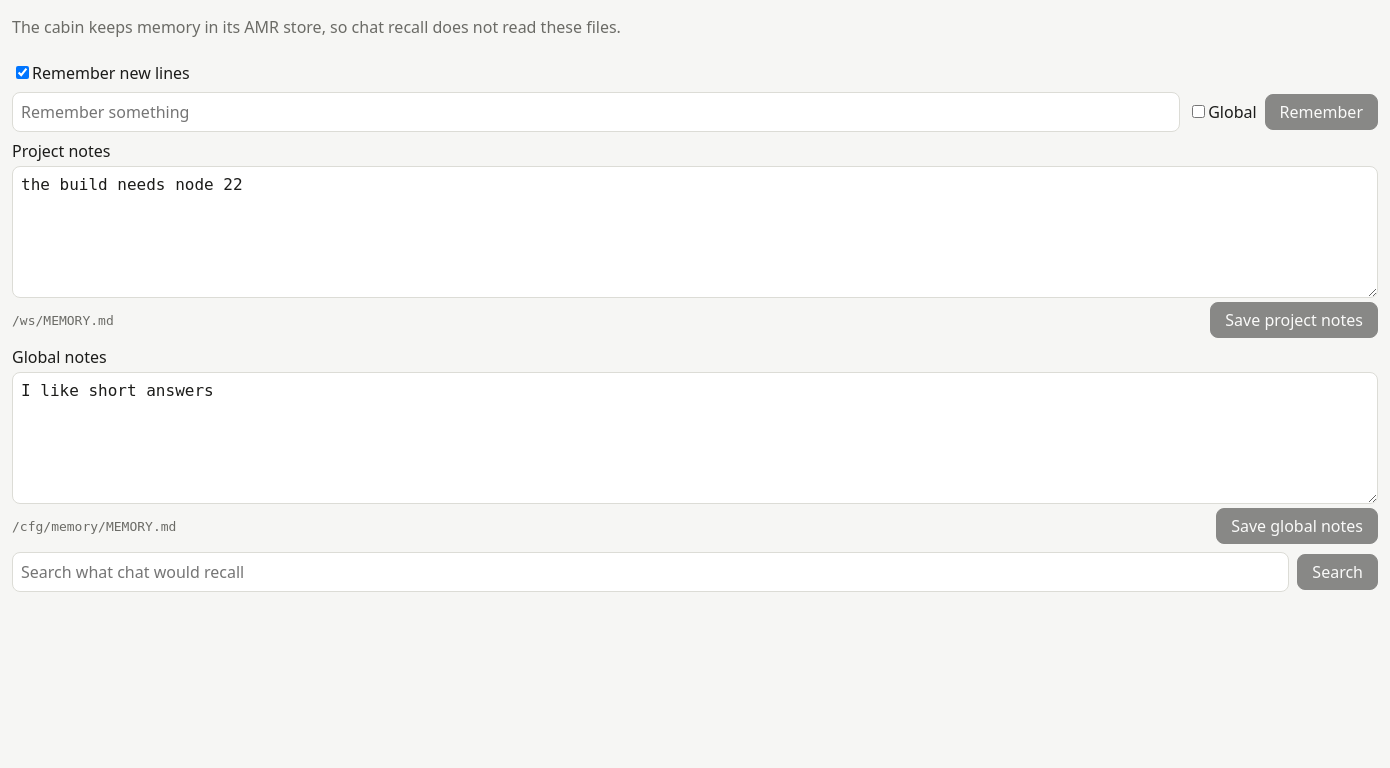
Test: Memory › Remember status stays distinct from the AMR banner
Expected: the text "AMR store" is shown, [12,16,621,38]
Type "the smoke test likes kumquats" into the field named "New note" at (596, 112), box [12,92,1180,132]
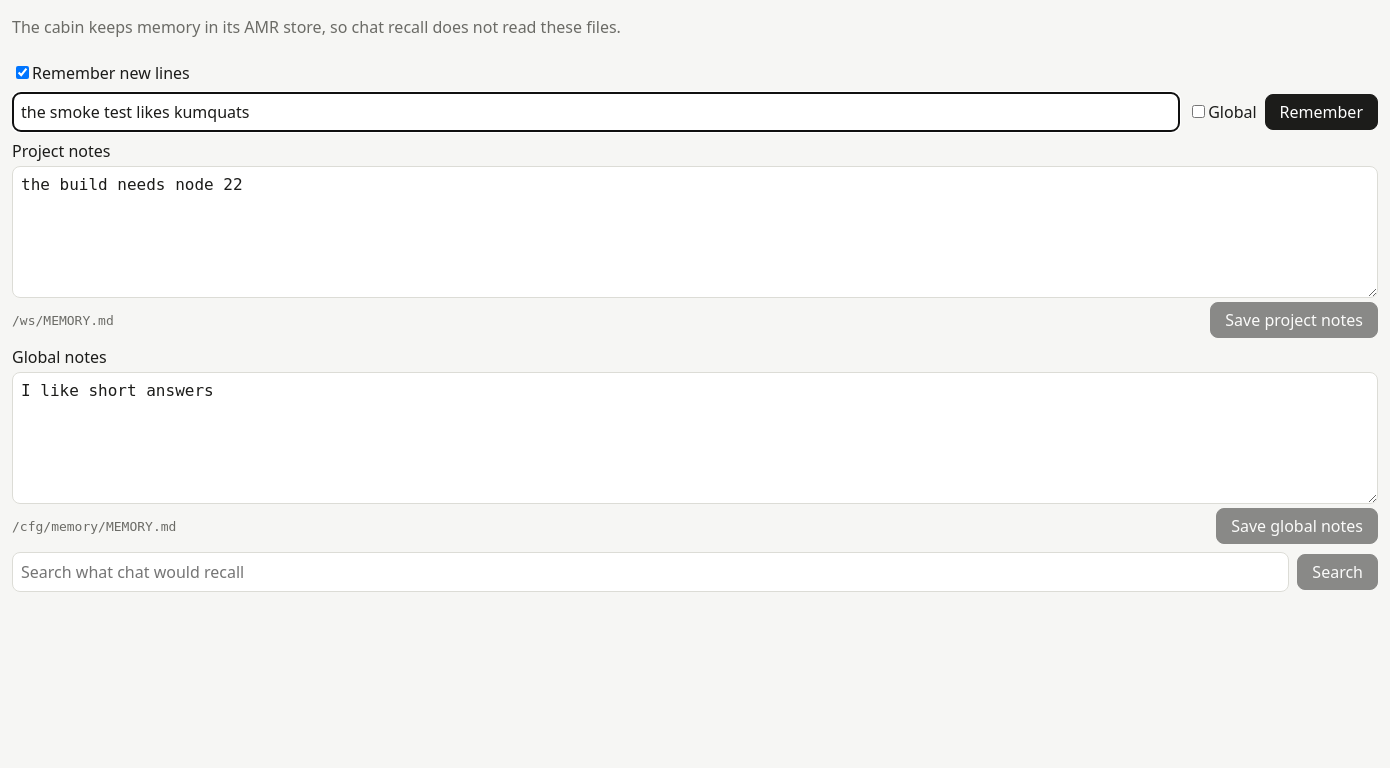
Click the button "Remember" at (1321, 112), box [1265,94,1378,130]
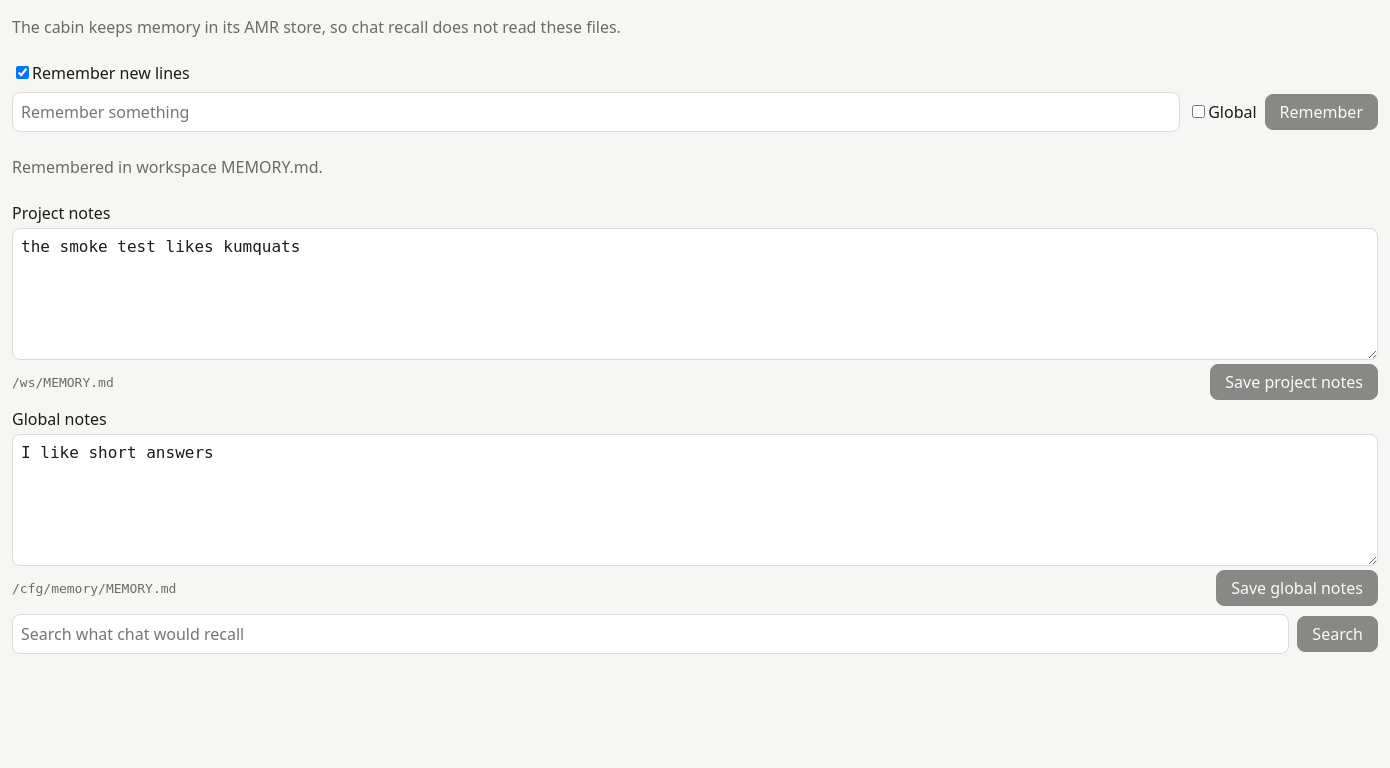
Now the message reads "Remembered in workspace MEMORY.md.", box [12,156,323,178]
